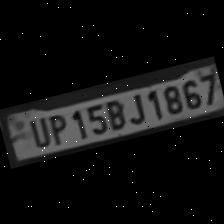1: (140, 86, 166, 122), (63, 106, 88, 140)
5: (80, 99, 108, 138)
6: (176, 74, 203, 110)
7: (194, 69, 222, 107)
8: (157, 80, 184, 116)
B: (100, 95, 128, 131)
J: (120, 90, 148, 128)
P: (43, 110, 71, 146)
U: (23, 113, 52, 150)
